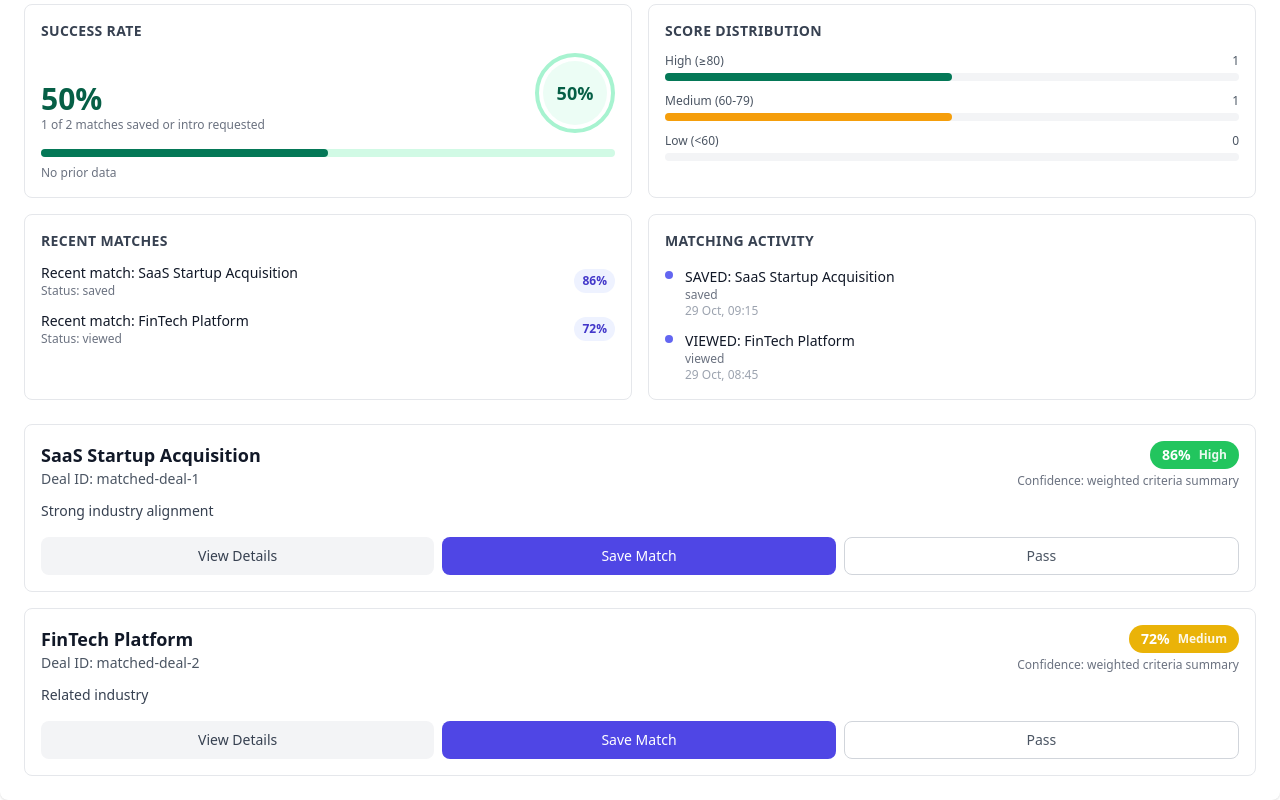
it: MatchingWorkspace › Match Actions Workflow › opens introduction request modal from detail view
The image size is (1280, 800).
(page scrolled)
Click the button "View Details" below "Strong industry alignment". click: (238, 556)
box: [41,537,434,575]
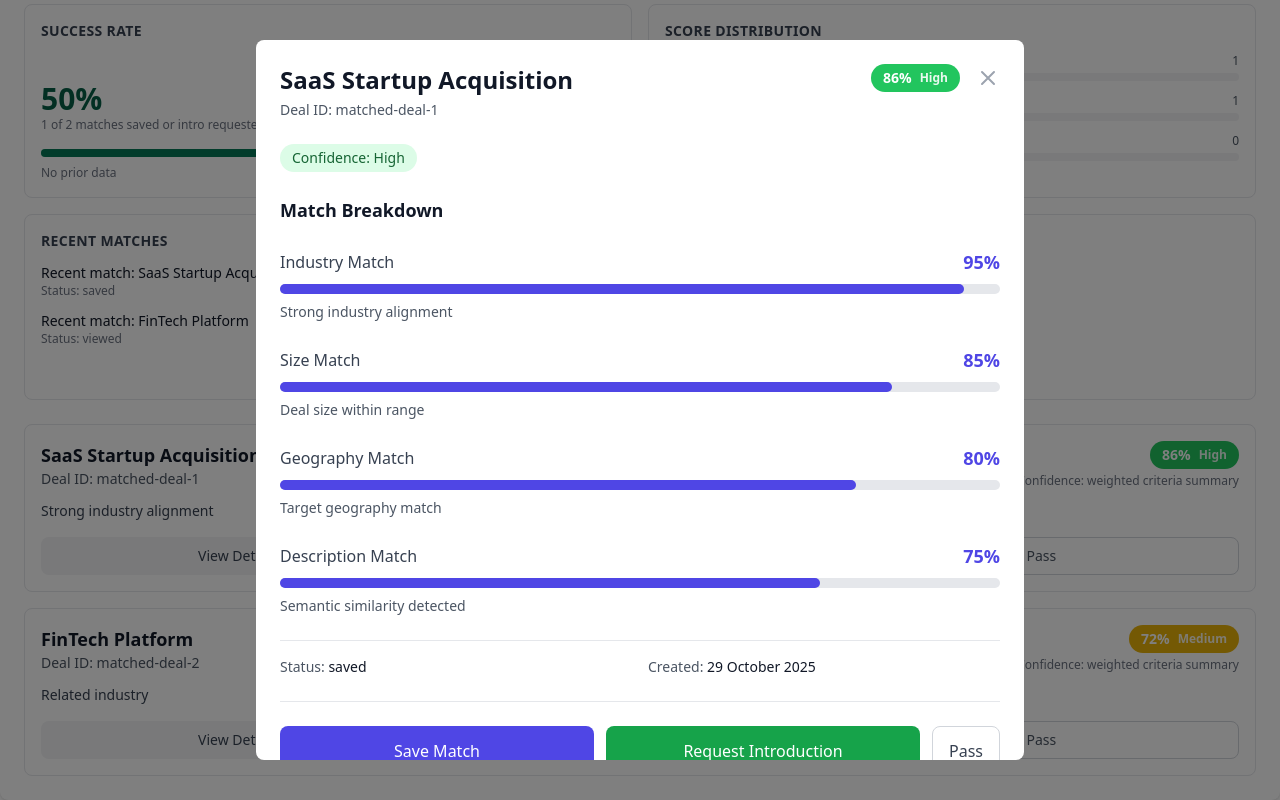
Click the button with test id "request-intro-button". click: (763, 751)
box: [606,726,920,776]
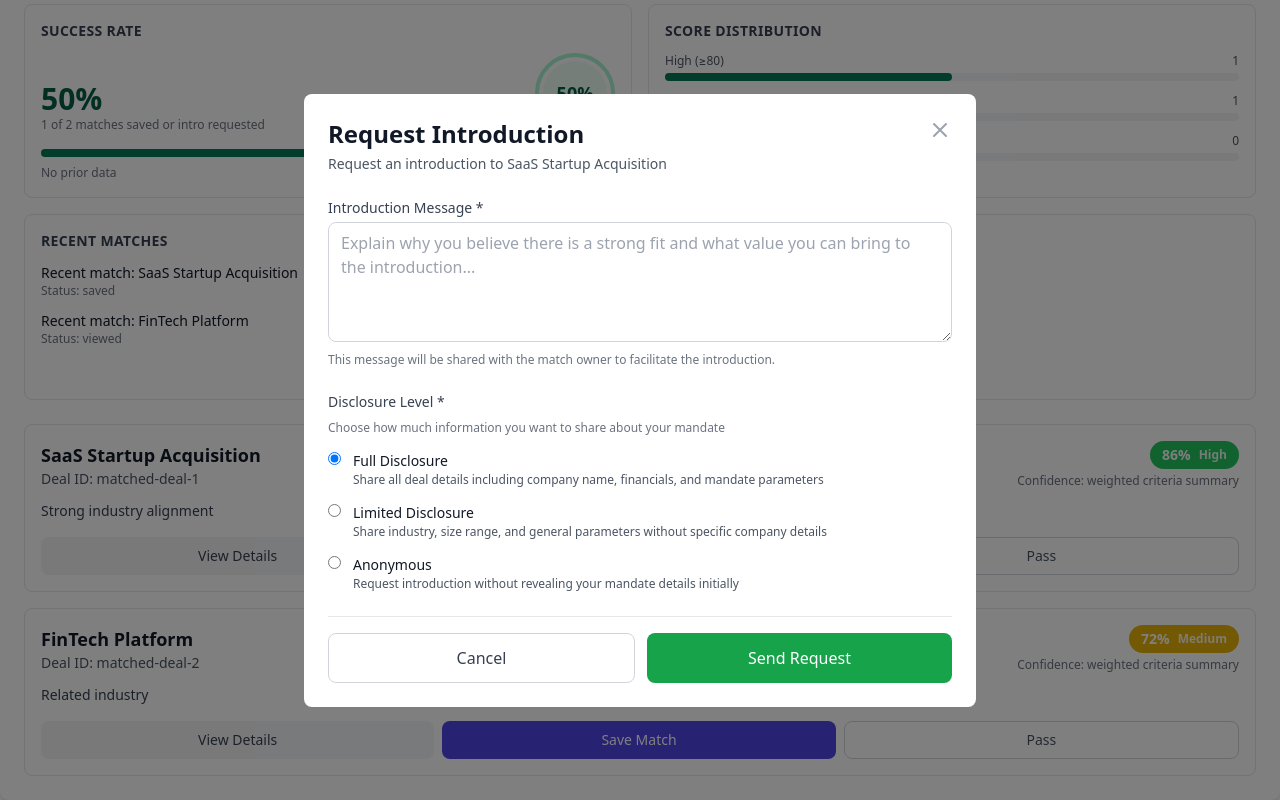
Check: the text box labelled "Introduction Message *" is shown, box [328,222,952,342]
